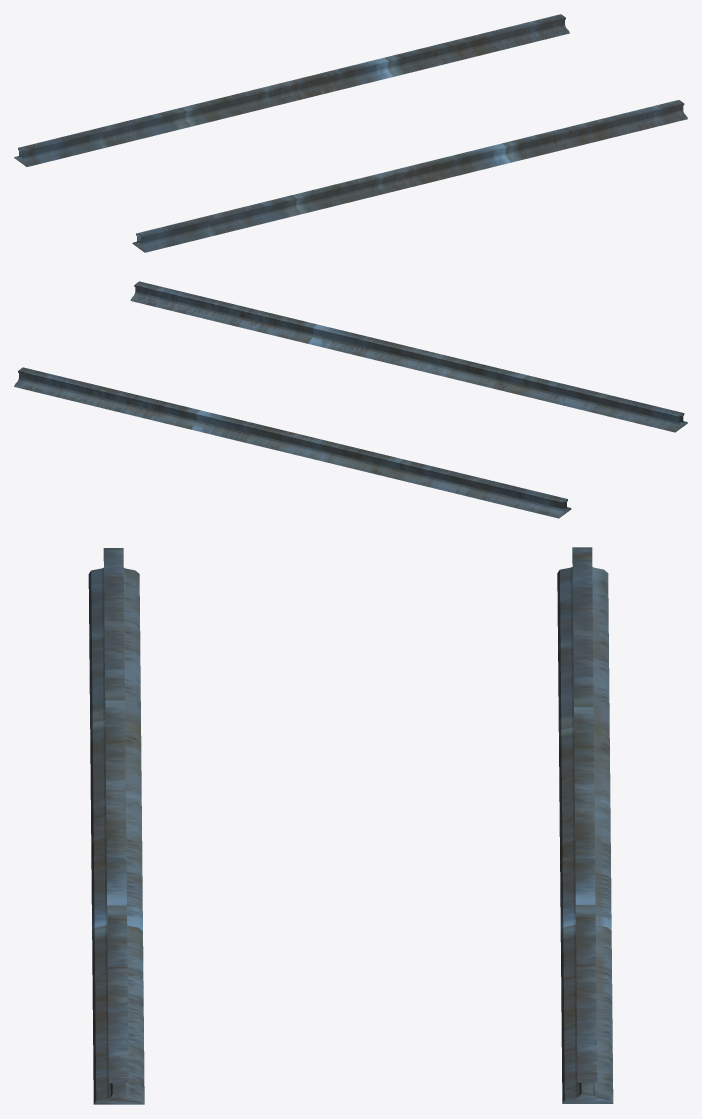
File: Rail_ironbar.fbx
The picture shows the model from 3 angles, top to bottom: view 1: azimuth 30°, elevation 25°; view 2: azimuth 150°, elevation 25°; view 3: azimuth 270°, elevation 25°; orthographic projection. The views are drawn at different scales.
Visible parts, largest first — view 1: Boss1.016; view 2: Boss1.016; view 3: Boss1.016.
Part boxes in pixels (<box>): Boss1.016: <box>14,14,687,252</box>; Boss1.016: <box>14,281,687,518</box>; Boss1.016: <box>88,547,613,1104</box>.
Size of the model in its own units: 1494 by 34.05 by 623.
